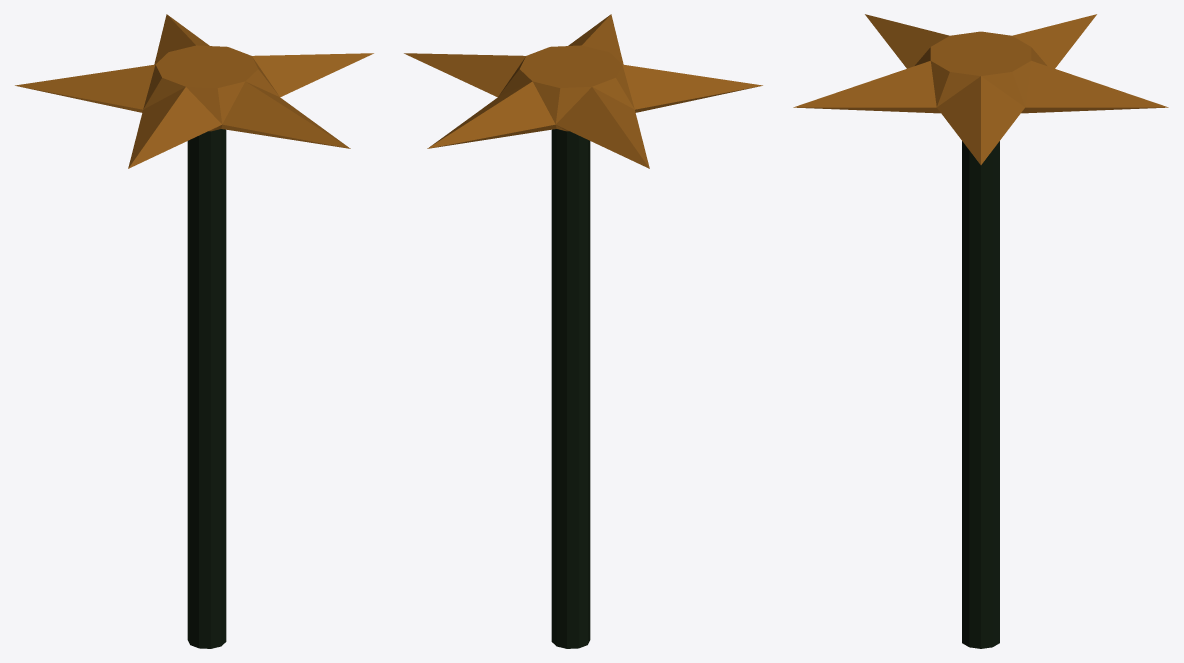
The model's file is Flower_Buttercup_Single_01.fbx.
3 views of the same model, side by side, from view 1: azimuth 30°, elevation 25°; view 2: azimuth 150°, elevation 25°; view 3: azimuth 270°, elevation 25° (orthographic). The views are drawn at different scales.
Parts seen in each view (by area): view 1: Flower_Buttercup_Single_01_Mesh; view 2: Flower_Buttercup_Single_01_Mesh; view 3: Flower_Buttercup_Single_01_Mesh.
Boxes of the visible parts, box(x1,y1,x2,y2) form: Flower_Buttercup_Single_01_Mesh: box(15, 14, 373, 648); Flower_Buttercup_Single_01_Mesh: box(404, 14, 762, 648); Flower_Buttercup_Single_01_Mesh: box(793, 14, 1168, 648).
Bounding box in the file's own units: 0.1628 × 0.294 × 0.1712.
1 material, 1 textured.
